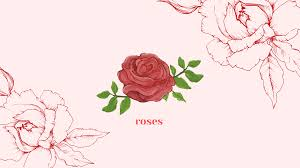lale: (109, 43, 190, 111)
